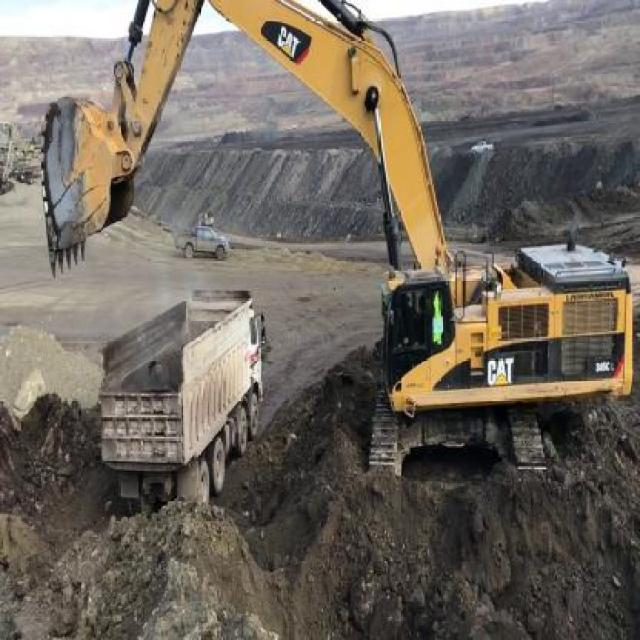dump_truck: (91, 279, 266, 513)
excavator: (40, 0, 635, 480)
